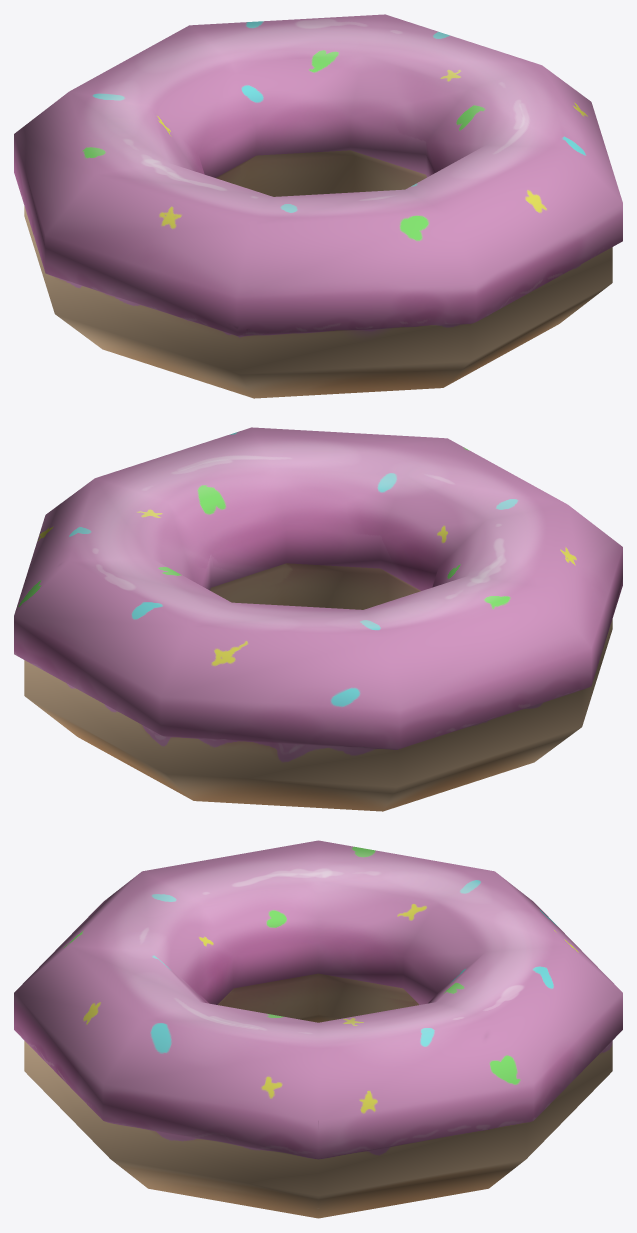
File: donut.fbx
3 views of the same model, one above another, from view 1: azimuth 30°, elevation 25°; view 2: azimuth 150°, elevation 25°; view 3: azimuth 270°, elevation 25° (orthographic). The views are drawn at different scales.
Parts seen in each view (by area): view 1: Circle; view 2: Circle; view 3: Circle.
Boxes of the visible parts, left/top/right/bottom form: Circle: left=14, top=14, right=622, bottom=398; Circle: left=14, top=427, right=622, bottom=811; Circle: left=14, top=840, right=622, bottom=1218.
Size of the model in its own units: 67.67 by 20.95 by 67.67.
